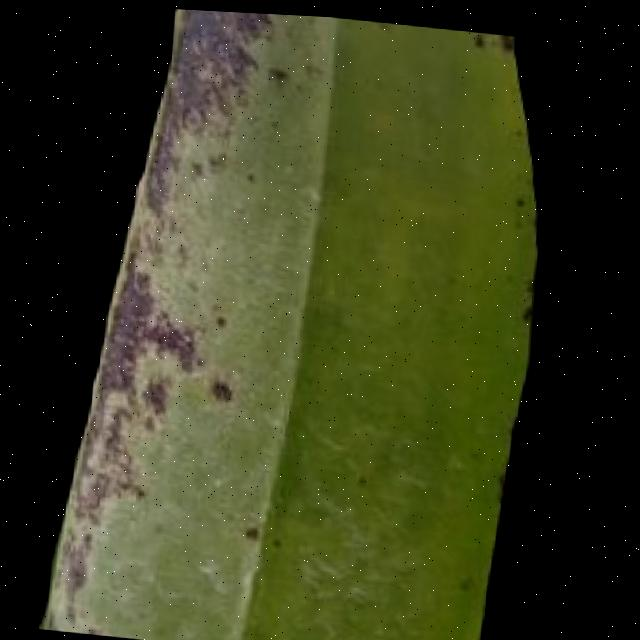mite: (147, 7, 536, 449), (229, 10, 523, 111), (136, 292, 252, 427), (199, 295, 253, 409), (237, 508, 299, 557), (204, 364, 248, 409), (468, 27, 521, 52), (207, 298, 242, 334), (265, 56, 295, 85), (243, 514, 271, 544), (212, 372, 240, 400), (355, 460, 380, 488), (214, 306, 236, 331), (491, 29, 518, 46), (271, 59, 292, 79), (271, 529, 290, 549), (249, 517, 265, 539), (474, 27, 493, 44), (217, 309, 234, 325), (358, 466, 374, 482), (517, 185, 530, 202), (274, 532, 288, 546)
